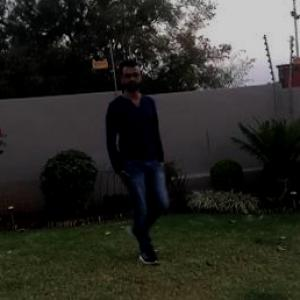follow: (90, 58, 160, 261)
